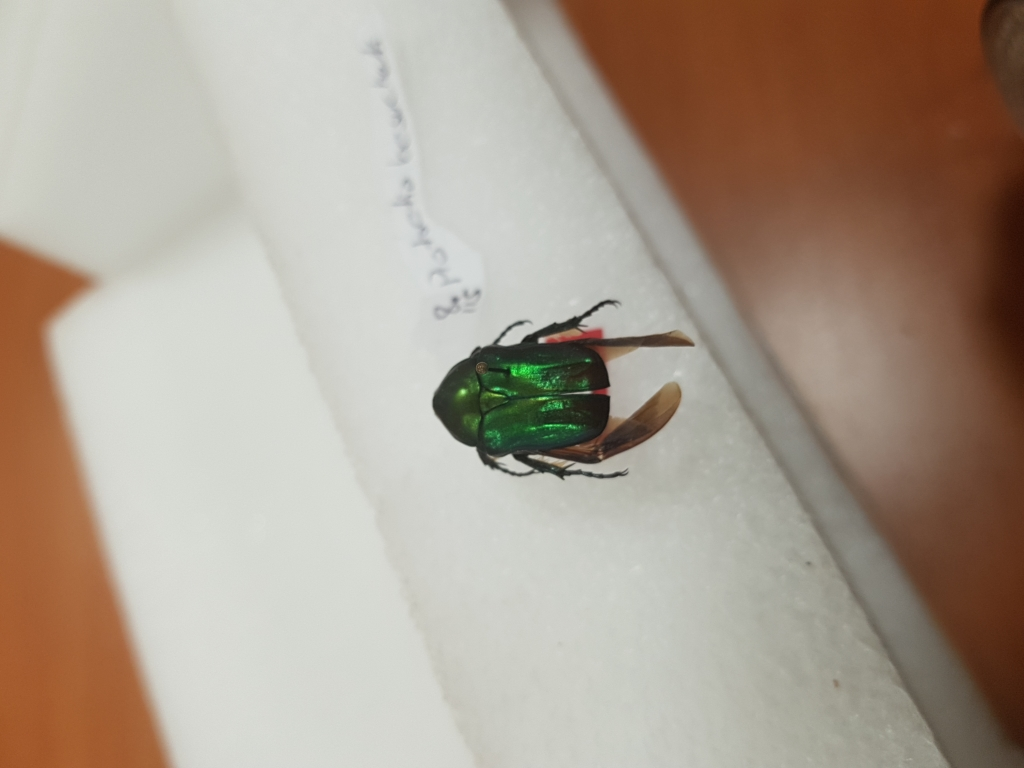Protaetia_besucheti: (429, 291, 700, 495)
